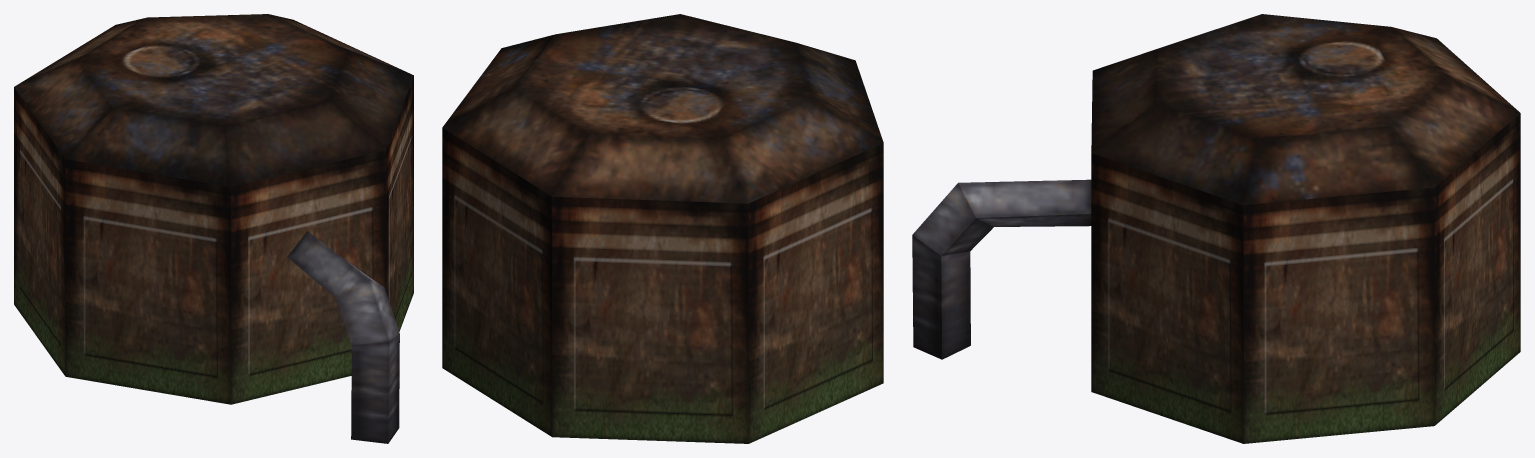
File: reservoir.obj
3 views of the same model, side by side, from view 1: azimuth 30°, elevation 25°; view 2: azimuth 150°, elevation 25°; view 3: azimuth 270°, elevation 25° (orthographic). The views are drawn at different scales.
Visible parts, largest first — view 1: Reservoir; view 2: Reservoir; view 3: Reservoir.
Boxes of the visible parts, x1,y1,x2,y2 form: Reservoir: [14, 14, 413, 443]; Reservoir: [442, 14, 883, 443]; Reservoir: [912, 14, 1520, 443].
Bounding box in the file's own units: 14.71 × 10.1 × 20.36.
1 material, 1 textured.
